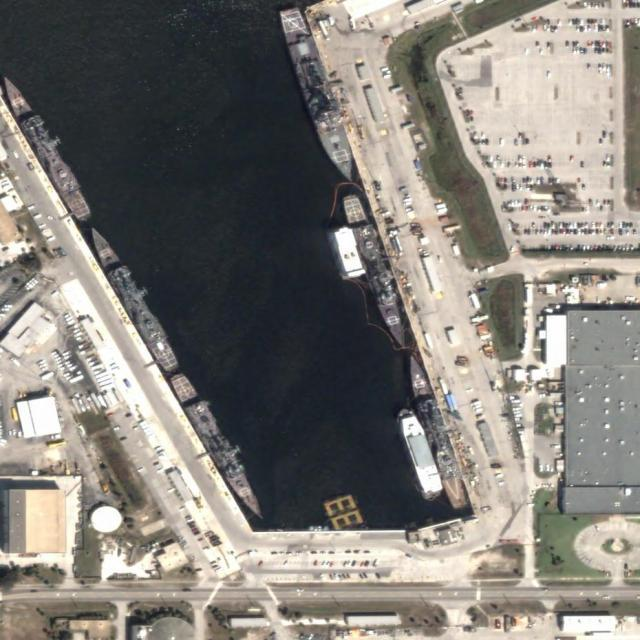Destroyer: (279, 6, 360, 186)
Frigate: (81, 224, 182, 374), (169, 370, 267, 524), (1, 79, 92, 220), (341, 191, 413, 350), (403, 352, 466, 510)
Other Warship: (396, 405, 445, 503)
